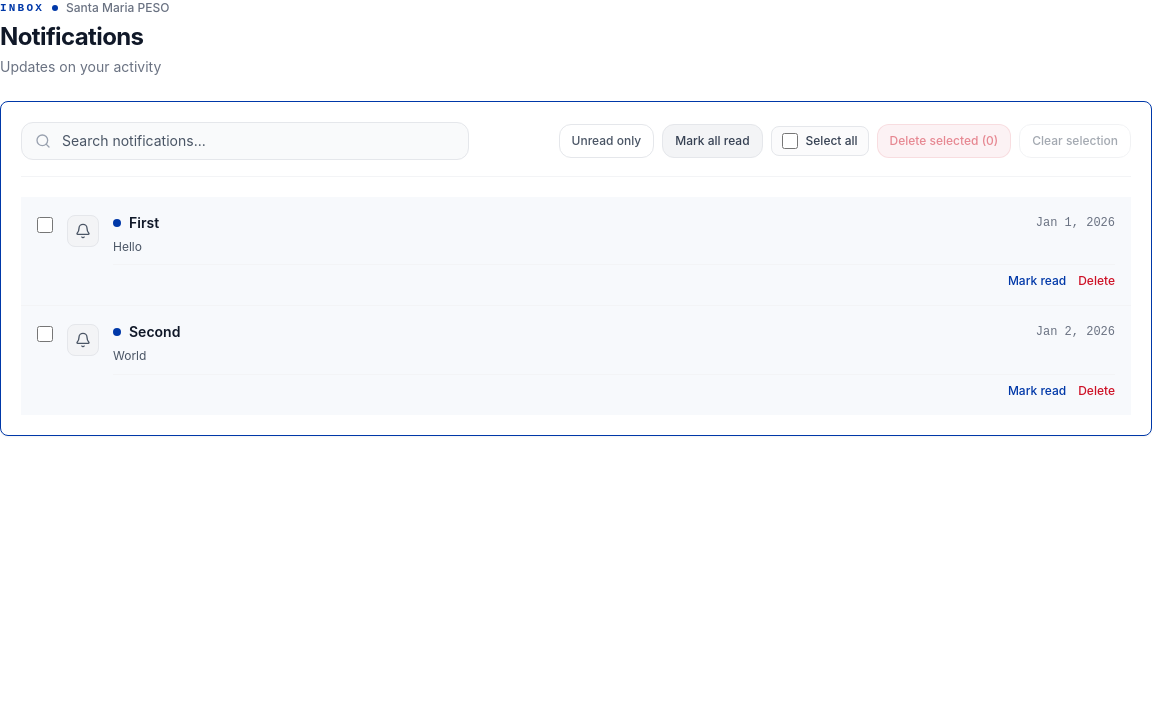
NotificationsPage delete › bulk delete removes selected
Expected: the text "First" is shown, [129,212,159,232]
Click the checkbox named "Select notification First".
click(45, 224)  # box [37,216,53,232]
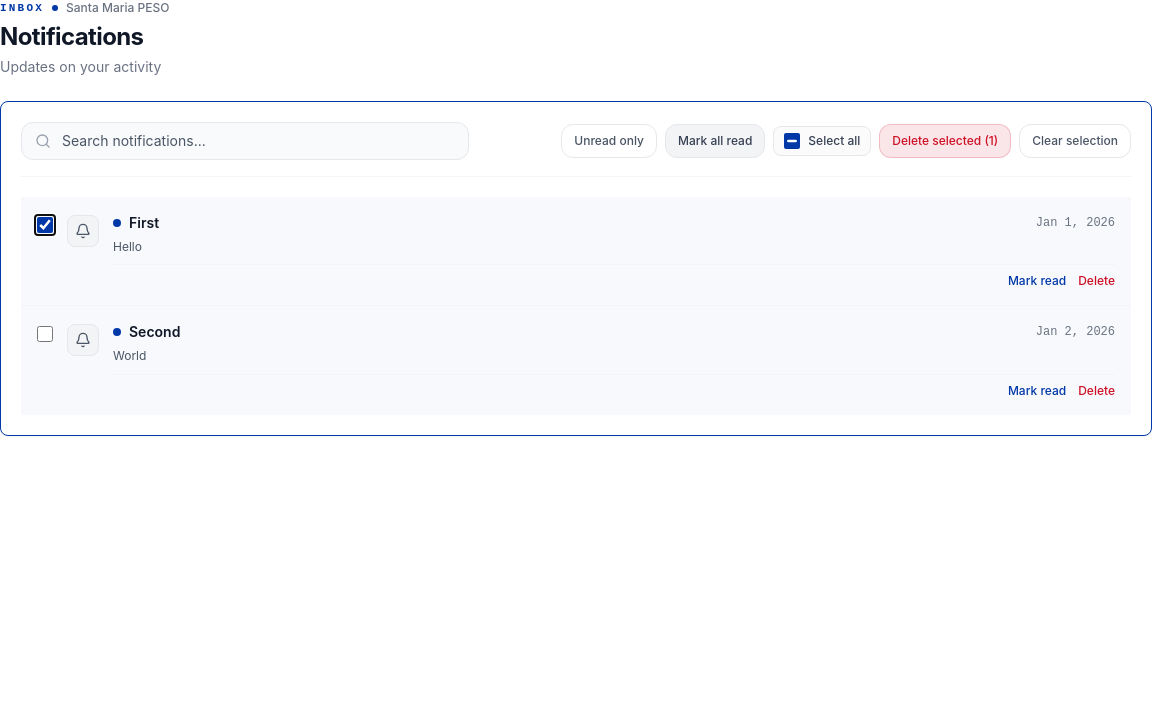
Click the checkbox named "Select notification Second".
click(45, 334)  # box [37,326,53,342]
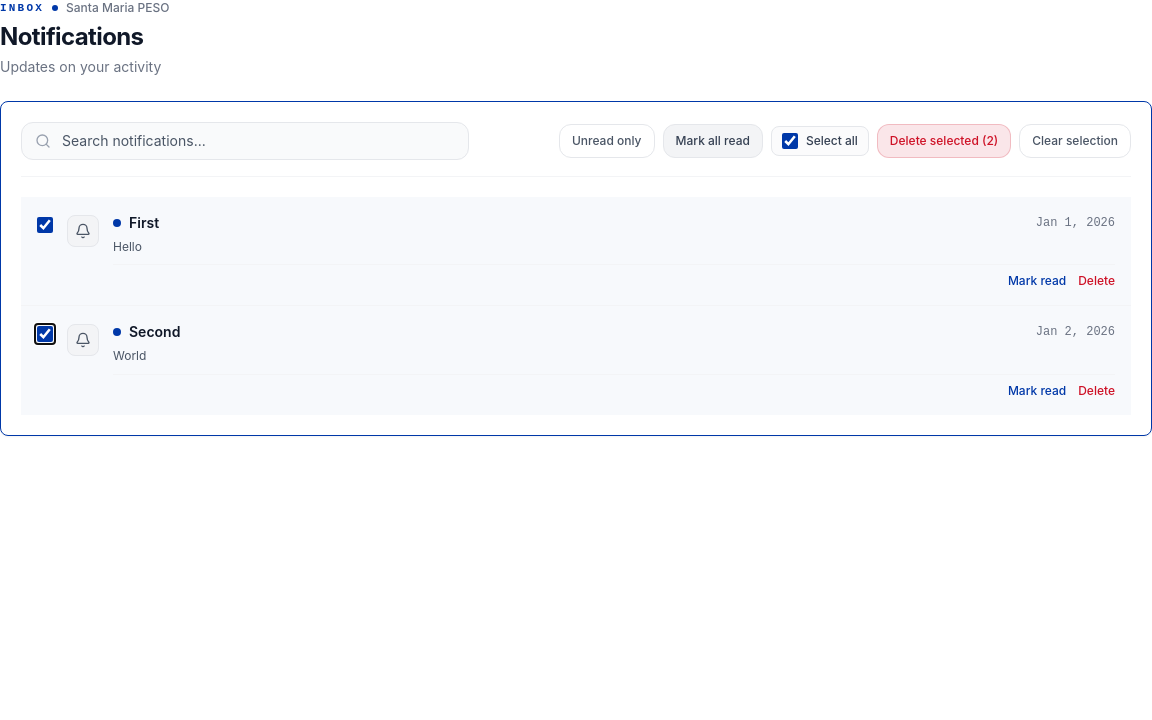
Click the button "Delete selected (2)".
click(944, 140)  # box [877,124,1011,158]
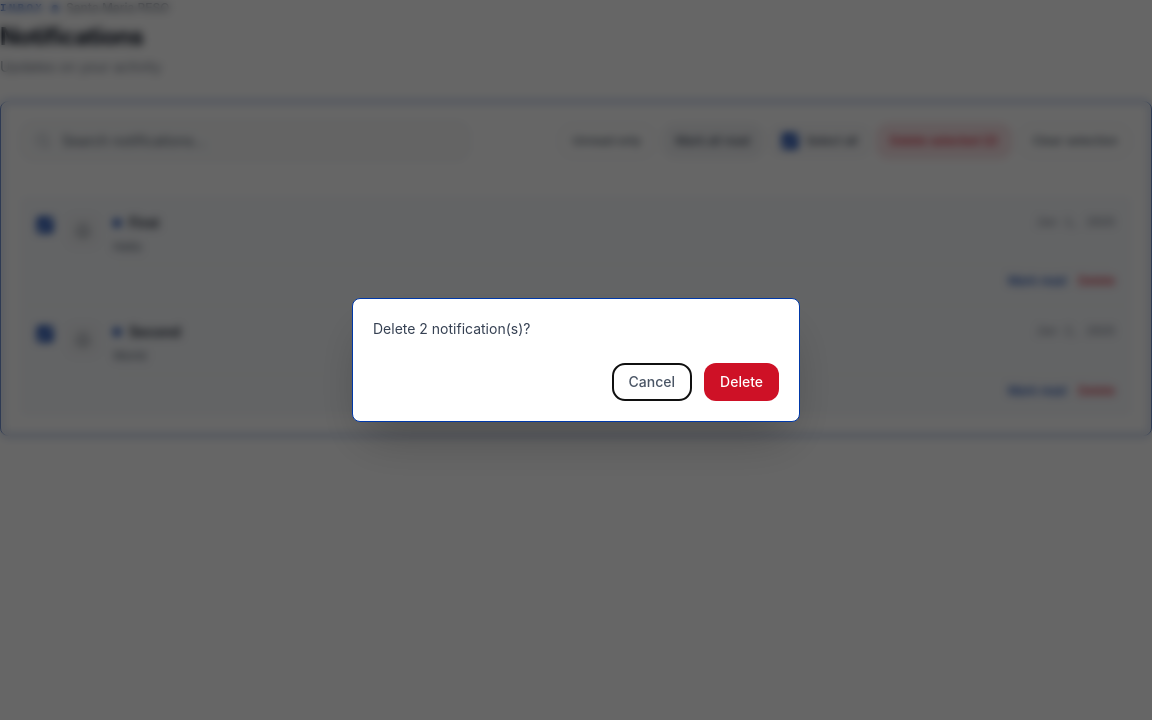
Click the button "Delete".
click(742, 382)  # box [704,363,779,401]
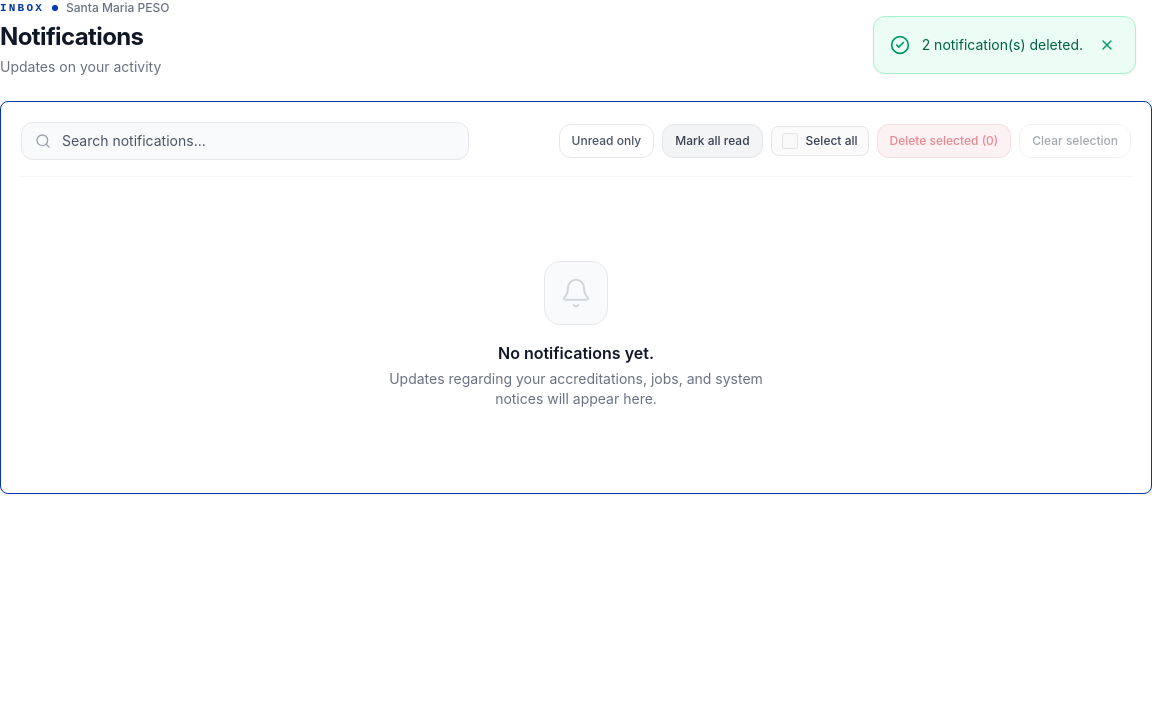
Now the text "First" is gone
Now the text "Second" is gone
Now the text "2 notification(s) deleted." is shown, box [922,35,1083,55]
